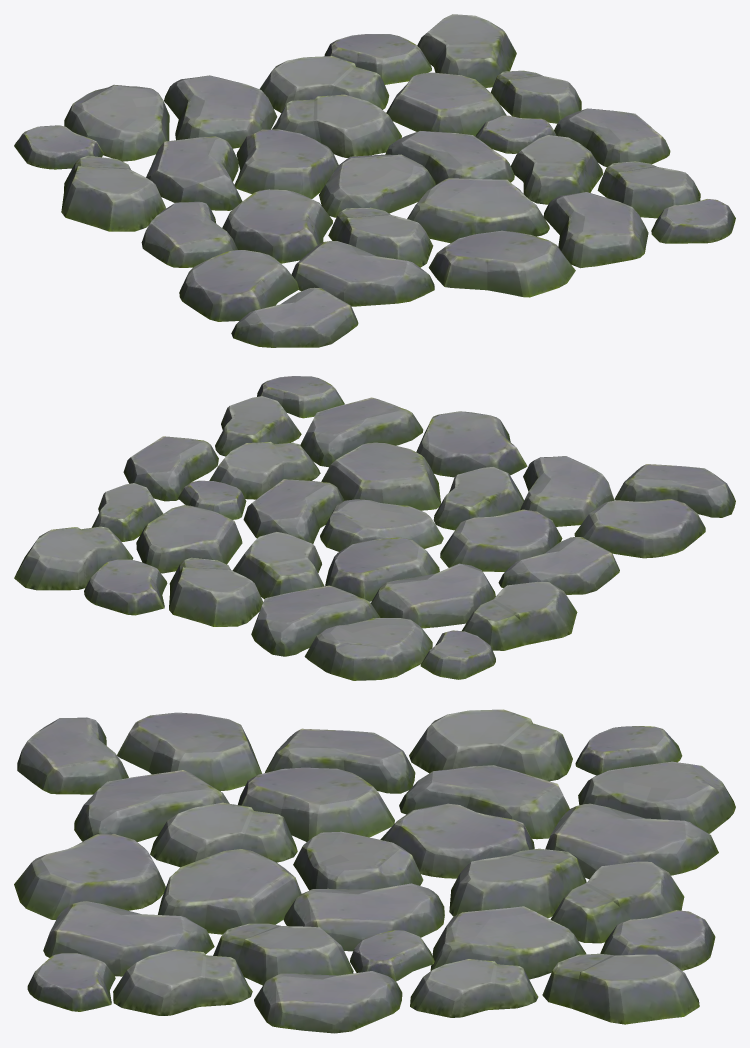
The model's file is RockPath_Round_Wide.glb.
3 renders of one model, top to bottom at view 1: azimuth 30°, elevation 25°; view 2: azimuth 150°, elevation 25°; view 3: azimuth 270°, elevation 25°, orthographic. The views are drawn at different scales.
Parts seen in each view (by area): view 1: RockPath_Round_Wide; view 2: RockPath_Round_Wide; view 3: RockPath_Round_Wide.
Boxes of the visible parts, x1,y1,x2,y2 form: RockPath_Round_Wide: (14, 14, 735, 347); RockPath_Round_Wide: (14, 376, 735, 680); RockPath_Round_Wide: (14, 709, 735, 1033).
Bounding box in the file's own units: 2.11 × 0.1128 × 2.13.
Materials: 1 (1 with a texture image).
